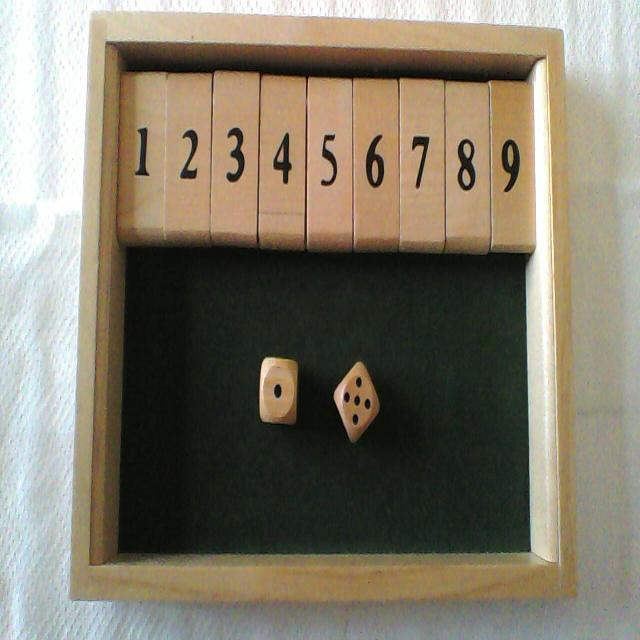1: (256, 352, 302, 430)
5: (330, 356, 383, 446)
C1: (118, 12, 164, 248)
C2: (167, 12, 209, 248)
C3: (214, 14, 256, 247)
C4: (262, 15, 305, 251)
C5: (308, 17, 352, 253)
C6: (355, 19, 398, 253)
C7: (402, 20, 444, 253)
C8: (447, 22, 489, 255)
C9: (492, 25, 536, 254)
